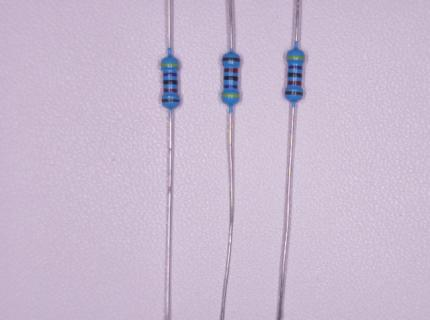Black band: (163, 80, 177, 85), (224, 76, 238, 81), (288, 73, 302, 77)
Brown band: (222, 58, 240, 62), (285, 91, 303, 95), (162, 99, 180, 102)
Red band: (164, 88, 178, 93), (287, 81, 301, 86), (224, 69, 238, 73)
Violet band: (163, 73, 177, 77), (288, 66, 302, 70), (224, 85, 237, 89)
Yellow band: (161, 63, 179, 67), (222, 93, 239, 97), (287, 56, 305, 59)
